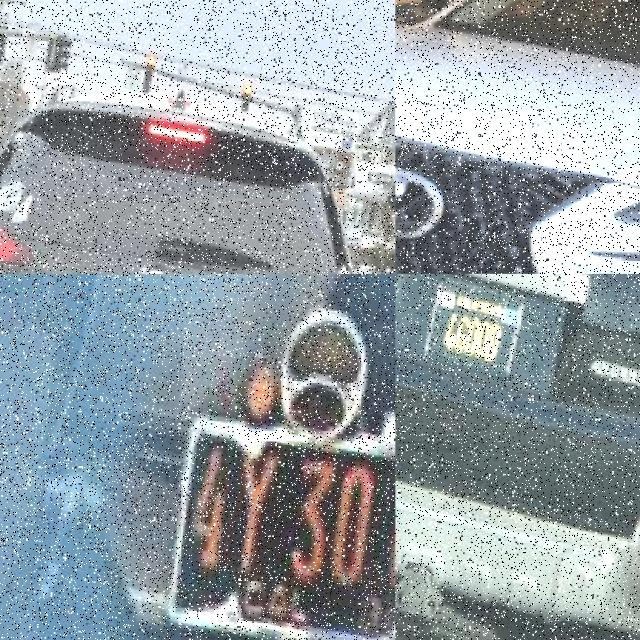licenseplate: (176, 412, 396, 617), (425, 274, 526, 380)
